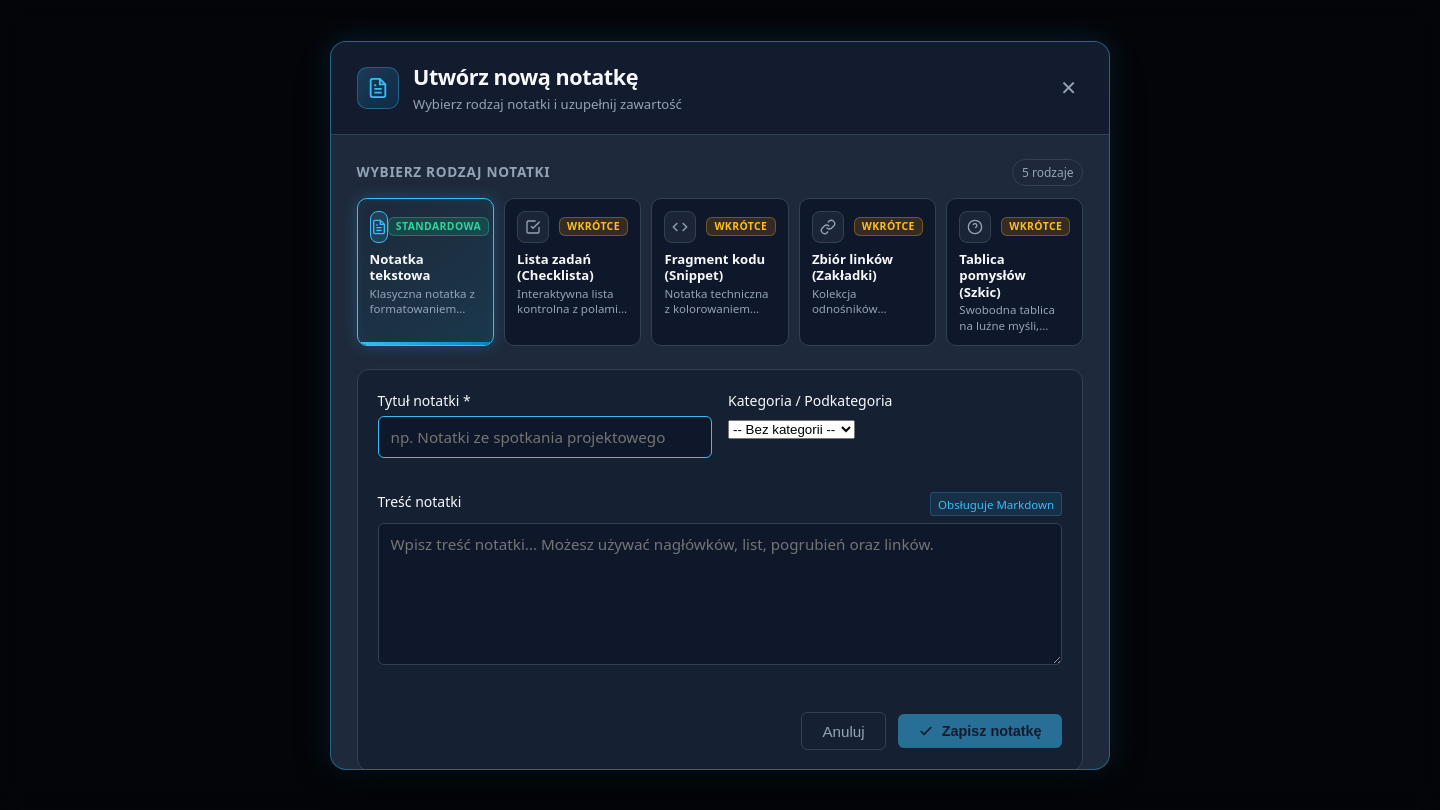
Test: CreateNoteModal Component › switches between note types and displays placeholder panels with mockups
// Click Checklist option
Click the tab with test id "note-type-checklist": (572, 272) [504,198,641,346]
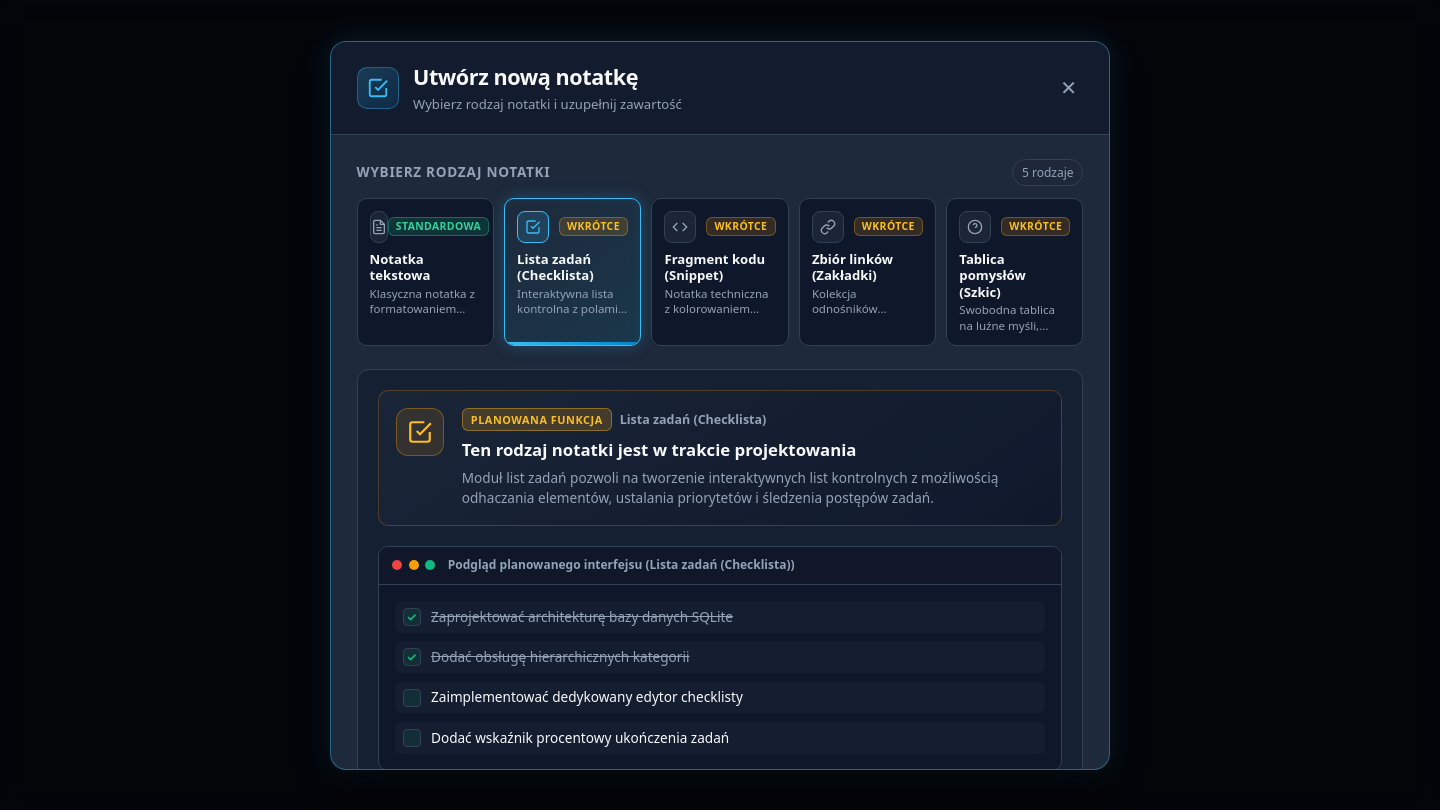
expect the element with test id "note-type-placeholder-checklist" is shown: met, box [357,369,1083,768]
expect the text "Podgląd planowanego interfejsu (Lista zadań (Checklista))" is shown: met, box [448,556,795,574]
// Click Code Snippet option
Click the tab with test id "note-type-code": (720, 272) [652,198,788,346]
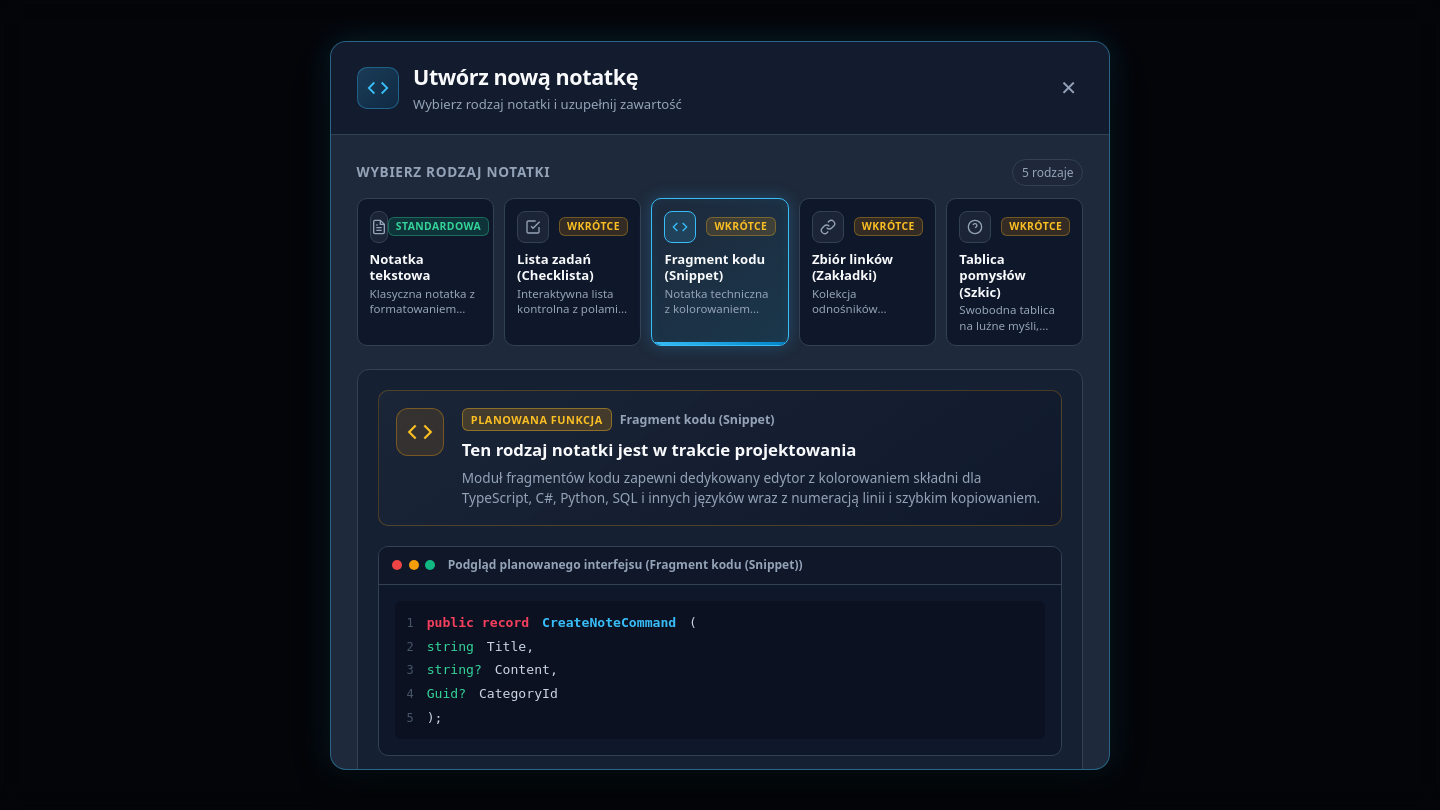
expect the element with test id "note-type-placeholder-code" is shown: met, box [357,369,1083,768]
expect the text "Podgląd planowanego interfejsu (Fragment kodu (Snippet))" is shown: met, box [448,556,803,574]
// Click Bookmarks / Links option
Click the tab with test id "note-type-links": (867, 272) [799,198,936,346]
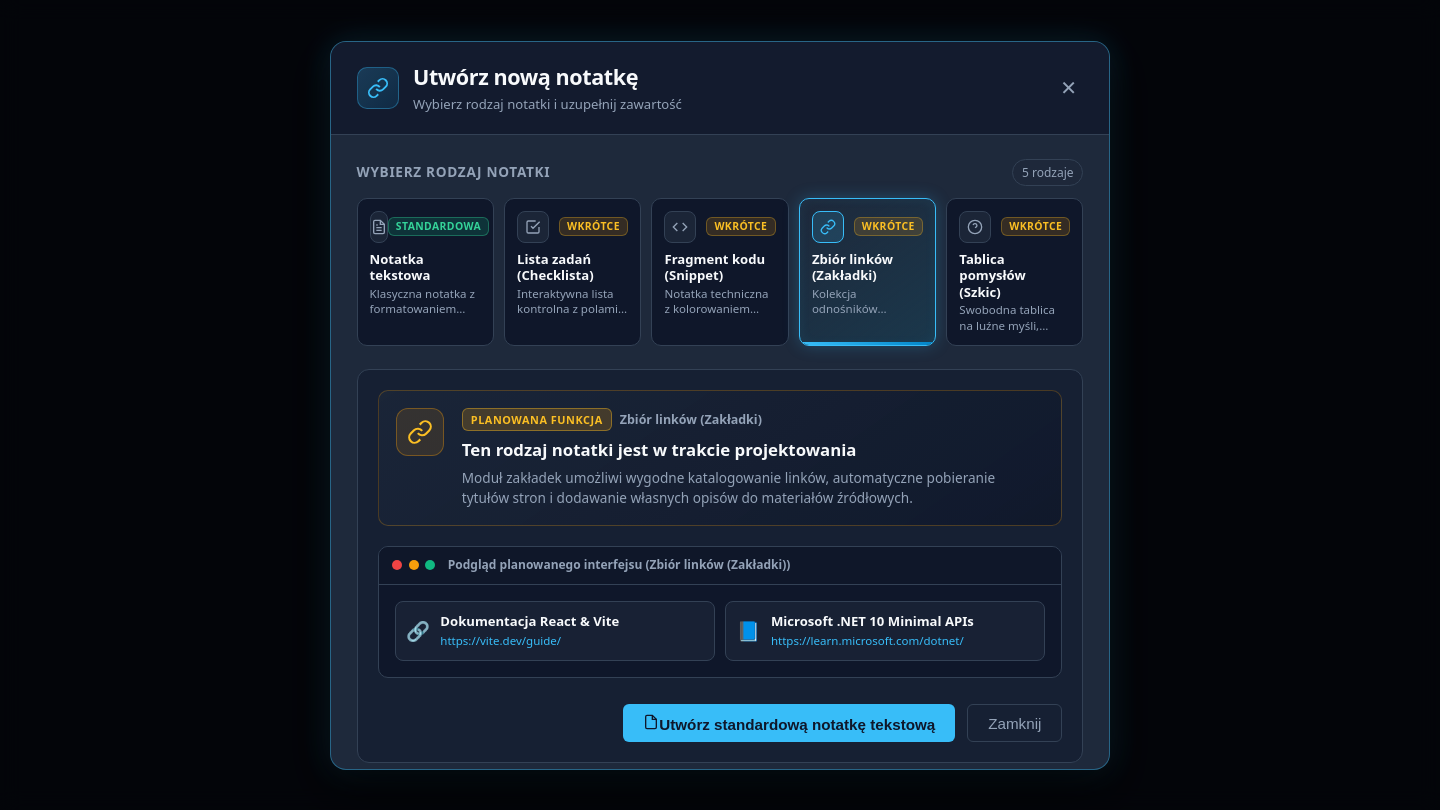
expect the element with test id "note-type-placeholder-links" is shown: met, box [357,369,1083,763]
expect the text "Podgląd planowanego interfejsu (Zbiór linków (Zakładki))" is shown: met, box [448,556,790,574]
// Click Canvas option
Click the tab with test id "note-type-canvas": (1015, 272) [946,198,1083,346]
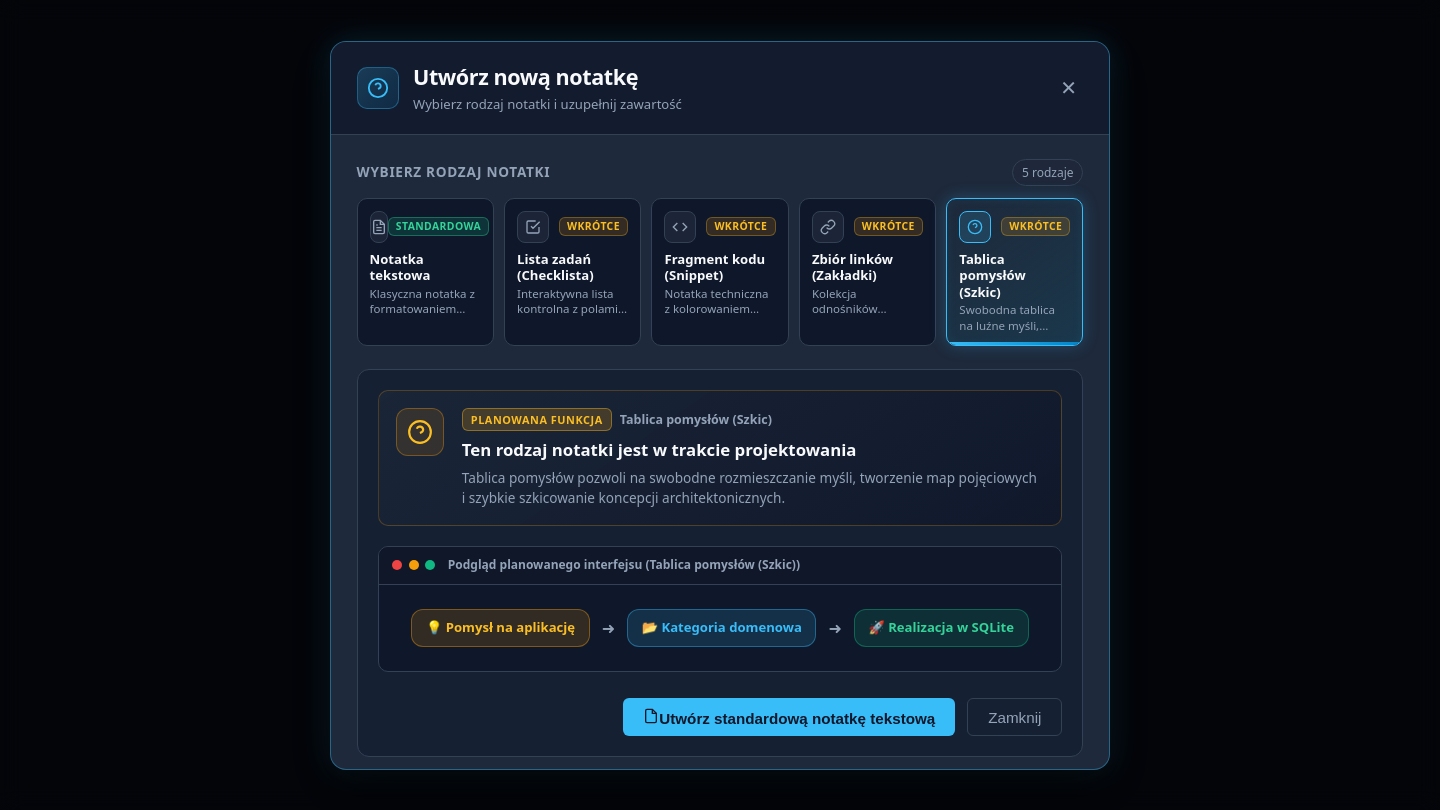
expect the element with test id "note-type-placeholder-canvas" is shown: met, box [357,369,1083,757]
expect the text "Podgląd planowanego interfejsu (Tablica pomysłów (Szkic))" is shown: met, box [448,556,800,574]
// Switch back to text note via CTA button
Click the button with test id "switch-to-text-note-btn": (789, 717) [623,698,955,736]
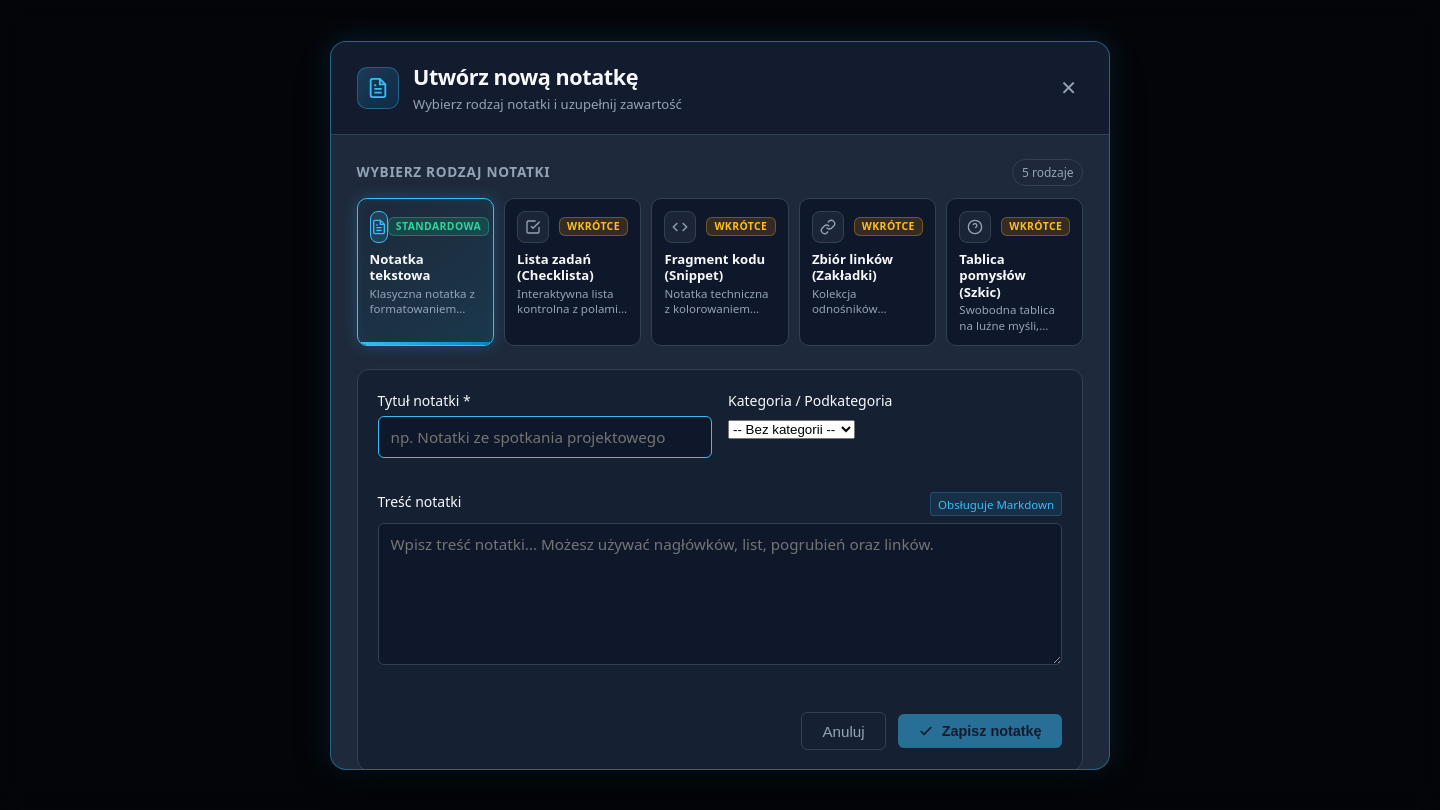
expect the form with test id "create-note-text-form" is shown: met, box [357,369,1083,768]
